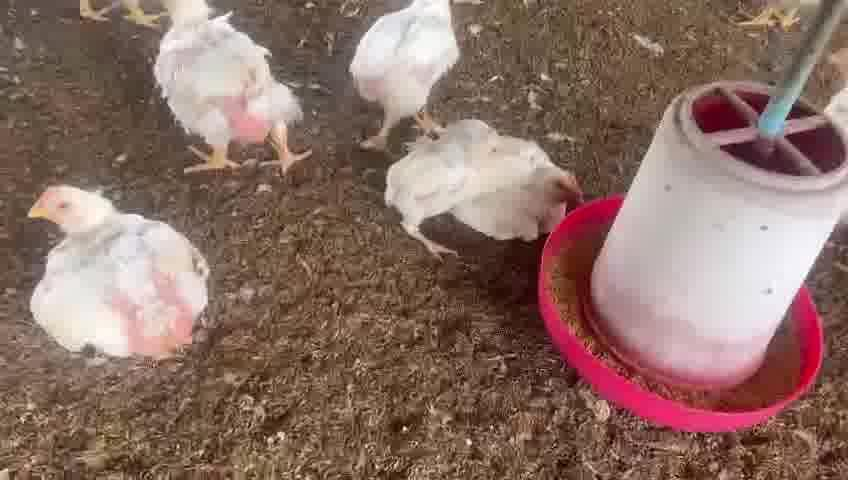AbNormal: (414, 107, 588, 257)
Normal: (21, 174, 229, 358), (156, 0, 320, 181), (351, 0, 458, 139)
